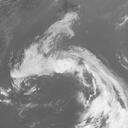cyclone: (10, 46, 113, 117)
